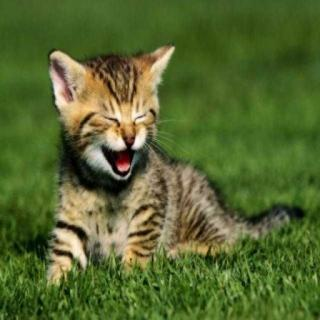Tiger: (34, 45, 287, 297)
